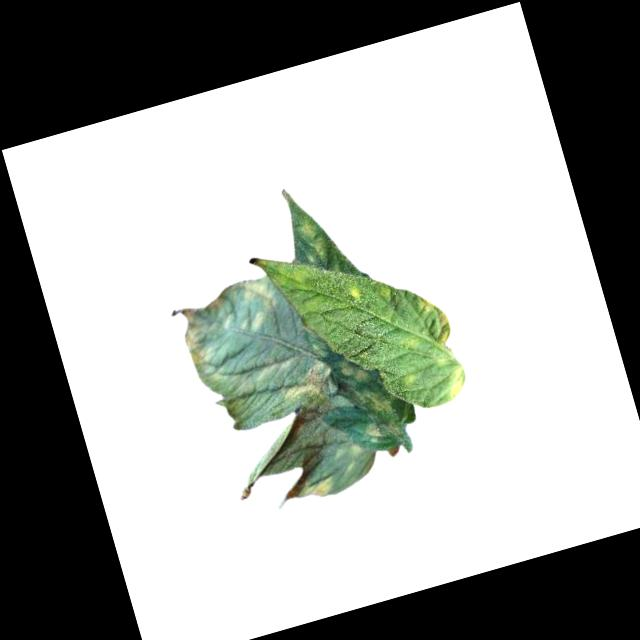Leaf_Mold: (335, 350, 394, 424), (275, 359, 336, 422), (230, 271, 285, 337), (166, 300, 214, 368), (413, 286, 455, 348), (296, 213, 334, 268), (436, 357, 470, 401), (298, 471, 336, 503)
